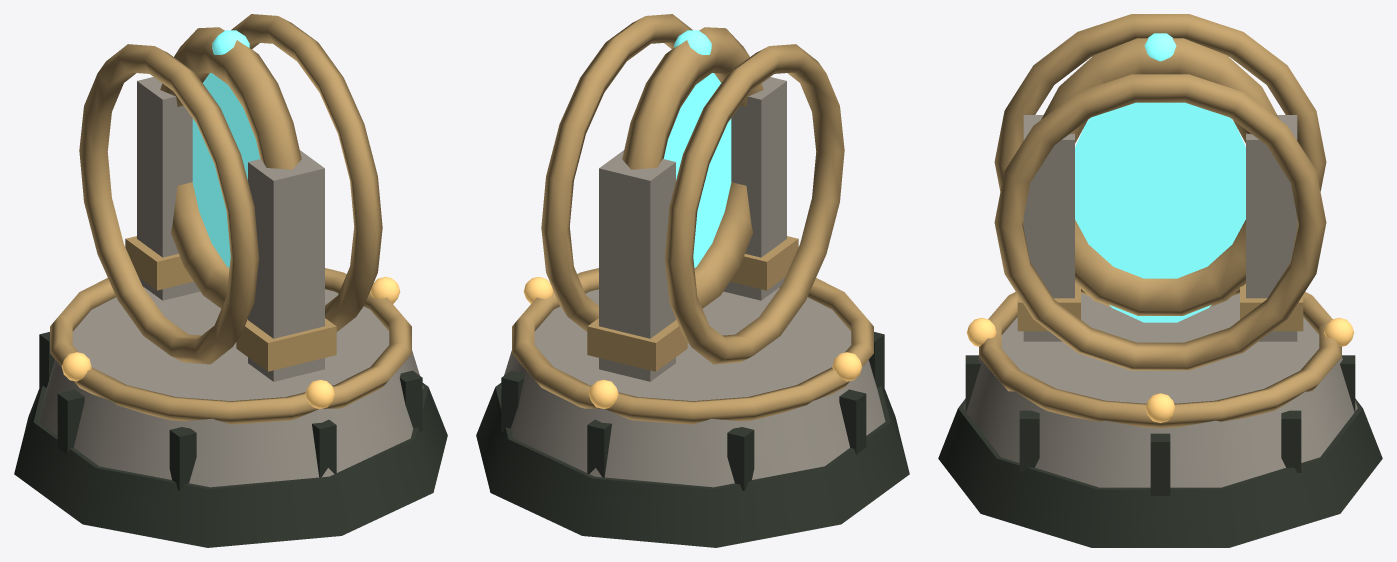
The model's file is tower_portal_portalArch_ultimate.glb.
3 renders of one model, left to right at view 1: azimuth 30°, elevation 25°; view 2: azimuth 150°, elevation 25°; view 3: azimuth 270°, elevation 25°, orthographic.
Visible parts, largest first — view 1: stone_1, foot_0, return_arch_21, arch_pillar_15, rim_2, arch_19, return_arch_22, arch_pillar_17, portal_surface_20, band_16, band_18, mortar_6 (+8 smaller); view 2: stone_1, foot_0, return_arch_21, arch_pillar_17, rim_2, arch_19, return_arch_22, arch_pillar_15, portal_surface_20, band_18, band_16, mortar_8 (+8 smaller); view 3: stone_1, foot_0, portal_surface_20, return_arch_22, arch_19, return_arch_21, rim_2, arch_pillar_15, arch_pillar_17, mortar_3, mortar_4, mortar_10 (+8 smaller).
Part boxes in pixels (bbox=[...]): stone_1: bbox=[38, 287, 423, 487]; foot_0: bbox=[14, 383, 447, 547]; return_arch_21: bbox=[79, 44, 259, 364]; arch_pillar_15: bbox=[248, 150, 324, 381]; rim_2: bbox=[50, 268, 411, 424]; arch_19: bbox=[160, 27, 301, 308]; return_arch_22: bbox=[231, 14, 382, 331]; arch_pillar_17: bbox=[137, 77, 200, 300]; portal_surface_20: bbox=[192, 73, 260, 267]; band_16: bbox=[236, 318, 336, 371]; band_18: bbox=[125, 236, 193, 290]; mortar_6: bbox=[169, 427, 196, 490]; stone_1: bbox=[500, 287, 885, 487]; foot_0: bbox=[476, 383, 909, 547]; return_arch_21: bbox=[664, 44, 844, 364]; arch_pillar_17: bbox=[599, 150, 675, 381]; rim_2: bbox=[512, 268, 873, 424]; arch_19: bbox=[622, 27, 763, 308]; return_arch_22: bbox=[541, 14, 692, 331]; arch_pillar_15: bbox=[723, 77, 786, 300]; portal_surface_20: bbox=[663, 73, 731, 267]; band_18: bbox=[587, 318, 687, 371]; band_16: bbox=[730, 236, 798, 290]; mortar_8: bbox=[727, 427, 754, 490]; stone_1: bbox=[963, 293, 1357, 487]; foot_0: bbox=[938, 398, 1382, 547]; portal_surface_20: bbox=[1075, 102, 1245, 322]; return_arch_22: bbox=[994, 74, 1326, 370]; arch_19: bbox=[1041, 38, 1279, 315]; return_arch_21: bbox=[994, 14, 1326, 295]; rim_2: bbox=[979, 292, 1341, 428]; arch_pillar_15: bbox=[1023, 115, 1074, 341]; arch_pillar_17: bbox=[1246, 115, 1297, 341]; mortar_3: bbox=[1150, 433, 1170, 495]; mortar_4: bbox=[1019, 410, 1039, 472]; mortar_10: bbox=[1281, 410, 1301, 472].
Size of the model in its own units: 0.5326 by 0.59 by 0.56.
